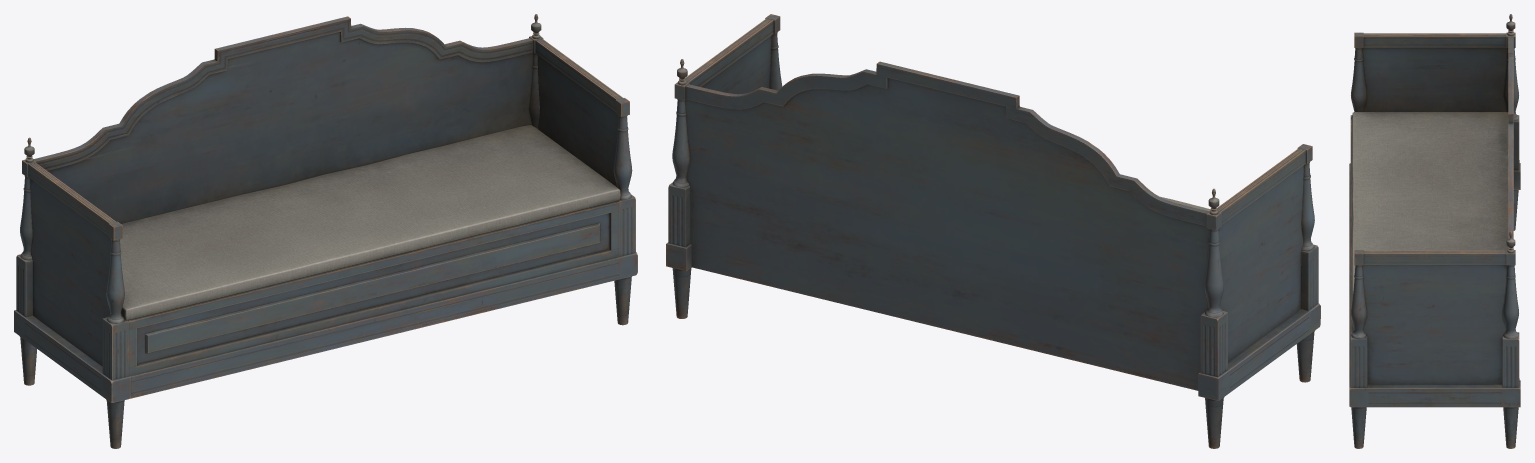
File: painted_wooden_sofa.glb
The picture shows the model from 3 angles, left to right: view 1: azimuth 30°, elevation 25°; view 2: azimuth 150°, elevation 25°; view 3: azimuth 270°, elevation 25°; orthographic projection. The views are drawn at different scales.
Parts seen in each view (by area): view 1: painted_wooden_sofa; view 2: painted_wooden_sofa; view 3: painted_wooden_sofa.
Part boxes in pixels (x1,y1,x2,y2): painted_wooden_sofa: [14, 14, 637, 448]; painted_wooden_sofa: [666, 14, 1320, 448]; painted_wooden_sofa: [1349, 14, 1520, 448].
Bounding box in the file's own units: 2.45 × 1.28 × 0.7873.
1 material, 1 textured.
